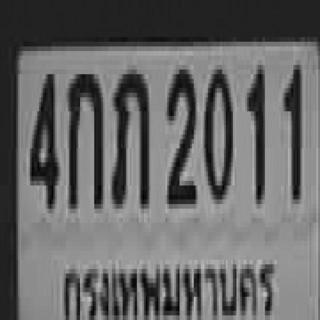A01: (68, 70, 101, 204)
A32: (110, 65, 148, 204)
N00: (203, 65, 231, 200)
N01: (245, 60, 263, 199), (283, 62, 300, 197)
N02: (164, 65, 195, 200)
N04: (29, 70, 57, 204)
P04: (60, 245, 278, 320)
